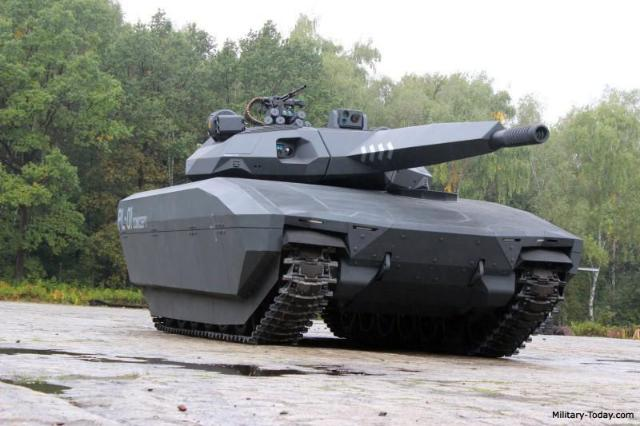tank: (119, 91, 579, 343)
